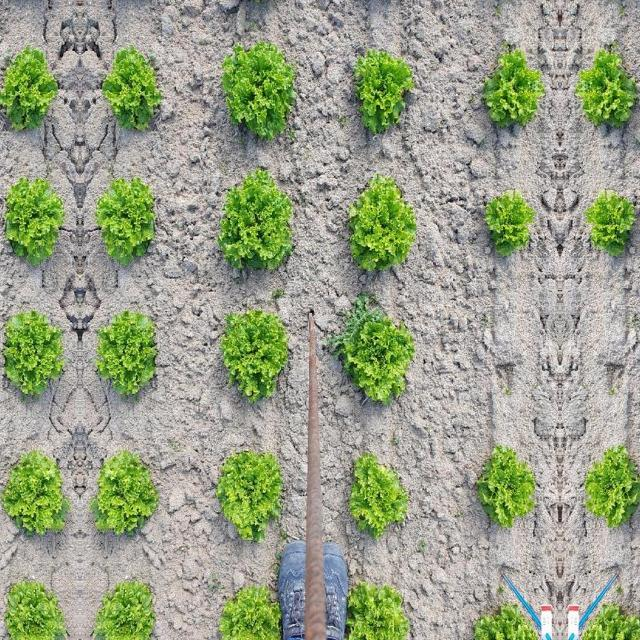healthy: (216, 168, 298, 276), (338, 298, 414, 402), (224, 38, 298, 144), (217, 306, 296, 402), (344, 178, 418, 280), (218, 445, 286, 545), (348, 444, 414, 540), (94, 173, 160, 267), (0, 173, 66, 267), (94, 449, 160, 541), (0, 449, 66, 541), (98, 306, 162, 400), (351, 47, 419, 135), (475, 442, 541, 532), (0, 306, 62, 400), (100, 45, 164, 132), (579, 442, 640, 532), (0, 44, 60, 131), (480, 46, 542, 130), (578, 46, 640, 130), (94, 574, 162, 640), (0, 574, 66, 639), (342, 584, 412, 640), (220, 578, 282, 640), (484, 190, 536, 253), (584, 190, 636, 253), (473, 600, 537, 640), (583, 600, 640, 640)
